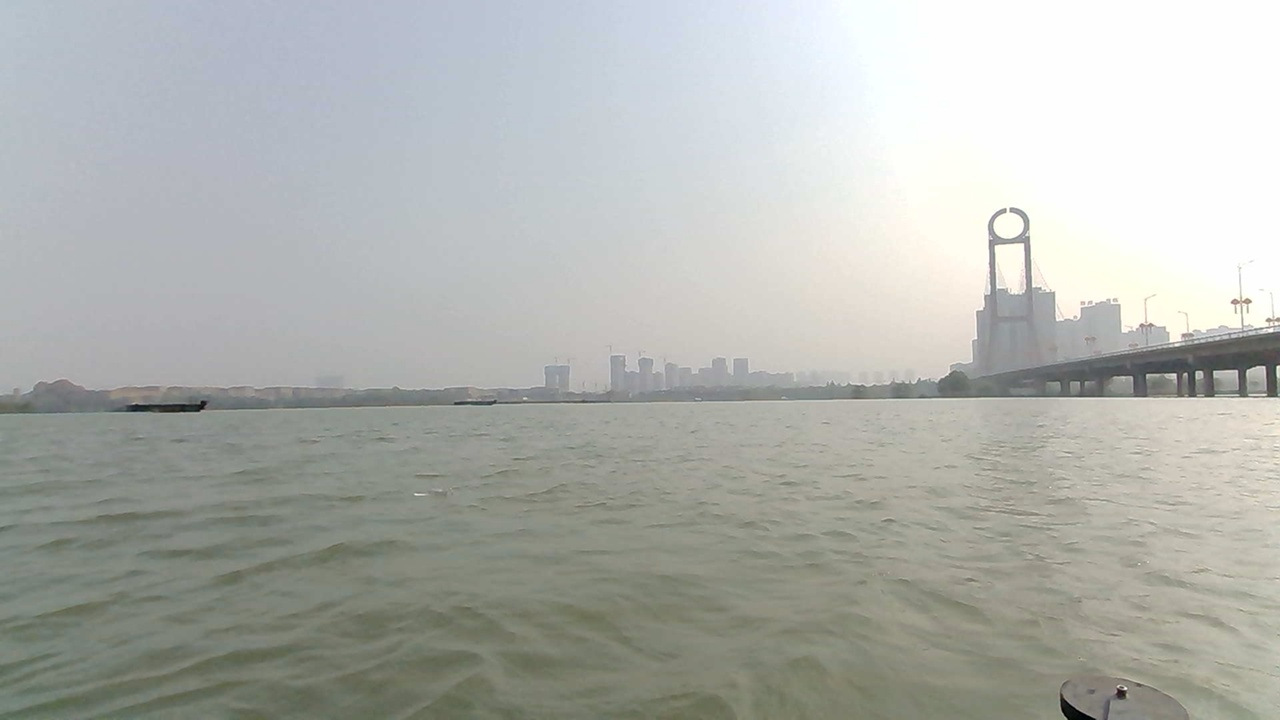bottle: (399, 473, 467, 519)
